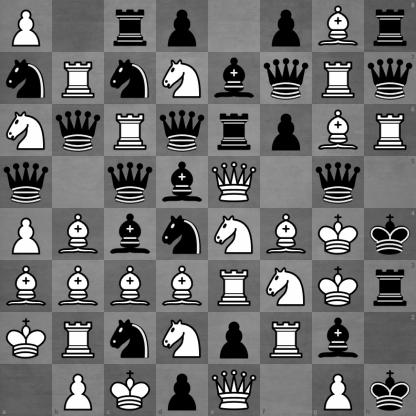B: (1, 261, 52, 312), (53, 209, 104, 260), (53, 261, 104, 312), (105, 261, 156, 312), (157, 261, 208, 312), (261, 209, 312, 260), (313, 1, 364, 52), (313, 105, 364, 156)
K: (104, 364, 156, 416), (1, 313, 52, 364), (313, 209, 364, 260), (313, 261, 364, 312)
N: (1, 105, 52, 156), (157, 53, 208, 104), (157, 313, 208, 364), (209, 209, 260, 260), (261, 261, 312, 312)
P: (52, 364, 104, 416), (312, 364, 364, 416), (1, 1, 52, 52), (1, 209, 52, 260)
Q: (209, 364, 260, 416), (209, 157, 260, 208)
R: (364, 104, 416, 156), (53, 53, 104, 104), (53, 313, 104, 364), (105, 105, 156, 156), (209, 261, 260, 312), (261, 313, 312, 364), (313, 53, 364, 104)
b: (105, 209, 156, 260), (157, 157, 208, 208), (209, 53, 260, 104), (313, 313, 364, 364)
board: (0, 0, 415, 415)
k: (364, 364, 416, 416), (364, 209, 416, 260)
n: (1, 53, 52, 104), (105, 53, 156, 104), (105, 313, 156, 364), (157, 209, 208, 260)
p: (156, 364, 209, 416), (157, 1, 208, 52), (209, 313, 260, 364), (261, 1, 312, 52), (261, 105, 312, 156)
q: (364, 52, 416, 104), (1, 157, 52, 208), (53, 105, 104, 156), (105, 157, 156, 208), (157, 105, 208, 156), (261, 53, 312, 104), (313, 157, 364, 208)
r: (364, 0, 416, 52), (364, 260, 416, 312), (105, 1, 156, 52), (209, 105, 260, 156)
